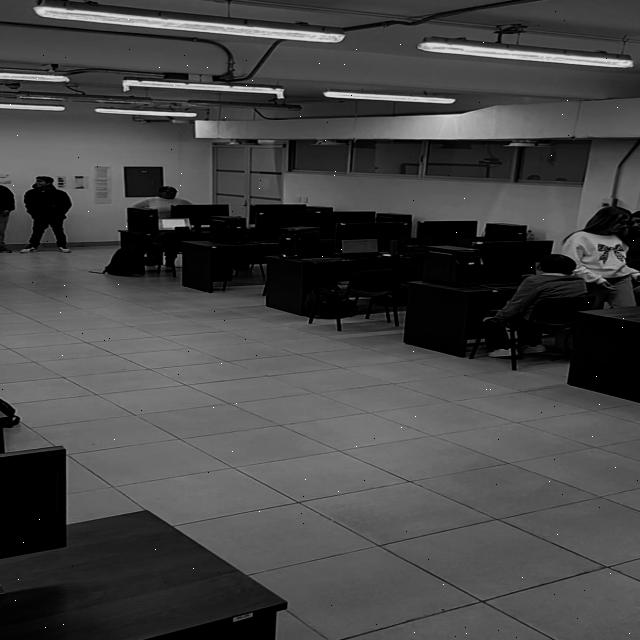Persona: (17, 177, 72, 254)
